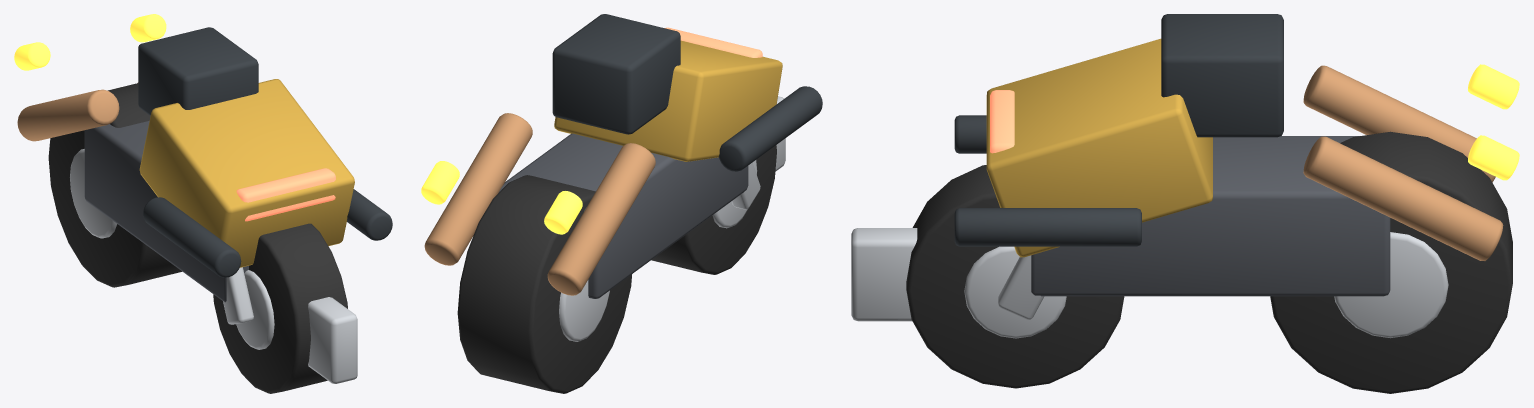
The model's file is enemy_moto_intercettore.glb.
3 views of the same model, side by side, from view 1: azimuth 30°, elevation 25°; view 2: azimuth 150°, elevation 25°; view 3: azimuth 270°, elevation 25° (orthographic). The views are drawn at different scales.
Parts seen in each view (by area): view 1: ArmoredCowling, FrontWheel, RiderDroneHead, BikeFrame, RearWheel, FrontSpikeBlade, ExhaustPipe_-1, SideGatling_-1, BikeVisor, FrontHub, RearHub, SideGatling_1 (+3 smaller); view 2: RearWheel, BikeFrame, RiderDroneHead, ArmoredCowling, ExhaustPipe_-1, ExhaustPipe_1, FrontWheel, SideGatling_-1, RearHub, NitroFlame_1, NitroFlame_-1, BikeVisor (+2 smaller); view 3: BikeFrame, ArmoredCowling, RearWheel, FrontWheel, RiderDroneHead, ExhaustPipe_1, SideGatling_1, RearHub, ExhaustPipe_-1, FrontSpikeBlade, FrontHub, ForkStrut_1 (+4 smaller).
Part boxes in pixels (<box>): ArmoredCowling: <box>139,79,354,267</box>; FrontWheel: <box>213,223,347,393</box>; RiderDroneHead: <box>138,27,258,115</box>; BikeFrame: <box>84,121,248,302</box>; RearWheel: <box>48,83,181,287</box>; FrontSpikeBlade: <box>308,297,357,383</box>; ExhaustPipe_-1: <box>17,89,119,141</box>; SideGatling_-1: <box>143,197,241,277</box>; BikeVisor: <box>236,168,335,221</box>; FrontHub: <box>236,270,274,349</box>; RearHub: <box>70,149,116,238</box>; SideGatling_1: <box>347,189,392,240</box>; RearWheel: <box>457,175,631,393</box>; BikeFrame: <box>498,133,748,298</box>; RiderDroneHead: <box>552,14,680,134</box>; ArmoredCowling: <box>554,40,782,161</box>; ExhaustPipe_-1: <box>547,143,655,295</box>; ExhaustPipe_1: <box>424,113,532,265</box>; FrontWheel: <box>651,145,776,274</box>; SideGatling_-1: <box>719,86,822,171</box>; RearHub: <box>559,280,609,341</box>; NitroFlame_1: <box>421,161,459,204</box>; NitroFlame_-1: <box>544,191,582,234</box>; BikeVisor: <box>664,27,762,57</box>; BikeFrame: <box>1031,136,1390,296</box>; ArmoredCowling: <box>986,38,1212,257</box>; RearWheel: <box>1270,131,1512,393</box>; FrontWheel: <box>906,165,1124,388</box>; RiderDroneHead: <box>1161,14,1283,137</box>; ExhaustPipe_1: <box>1303,136,1503,260</box>; SideGatling_1: <box>954,208,1141,246</box>; RearHub: <box>1334,232,1448,338</box>; ExhaustPipe_-1: <box>1303,65,1495,182</box>; FrontSpikeBlade: <box>851,228,917,321</box>; FrontHub: <box>964,246,1066,338</box>; ForkStrut_1: <box>998,255,1044,319</box>.
Bounding box in the file's own units: 0.8 × 1.16 × 2.07.
